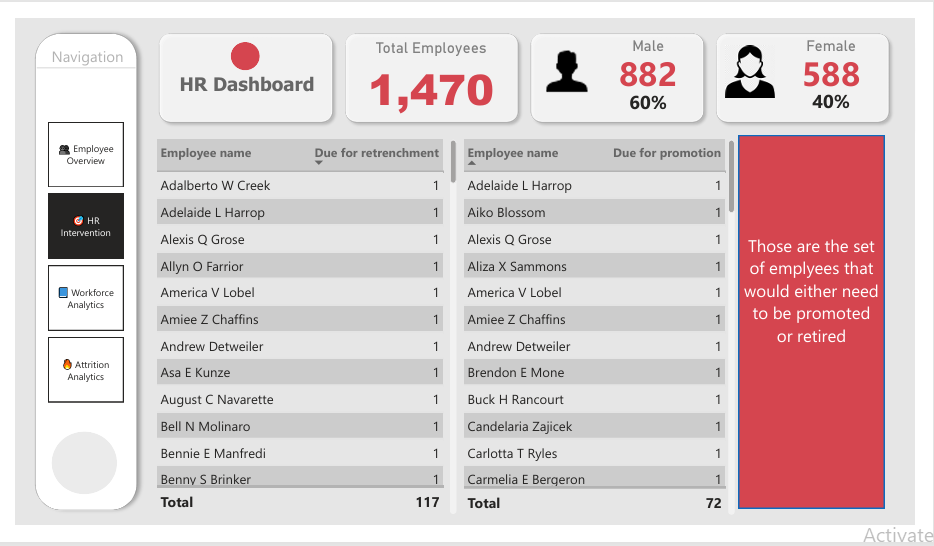

The dashboard page shown, as its layout file describes it:
{"tool":"powerbi","page":{"name":"🎯 HR Intervention ","canvas":[1280,720],"ordinal":1},"visuals":[{"type":"shape","box":[1028.6,166.2,207,530.1],"z":0},{"type":"shape","box":[16.5,9.6,166.5,699.2],"z":1000},{"type":"shape","box":[195.4,12.4,264.3,143.1],"z":2000},{"type":"shape","box":[459.7,12.4,264.3,143.1],"z":3000},{"type":"shape","box":[724,12.4,264.3,143.1],"z":4000},{"type":"shape","box":[988.2,12.4,264.3,143.1],"z":5000},{"type":"textbox","box":[209.7,71.2,238.7,51.4],"z":6000},{"type":"textbox","box":[36.9,33,130.5,51.4],"z":7000},{"type":"shape","box":[305.9,33,40.9,39.6],"z":8000},{"type":"card","title":"Total Employees","fields":{"Values":["All Measures.Total Emp"]},"box":[468,27.5,246.4,112.9],"z":9000},{"type":"card","title":"Male","fields":{"Values":["All Measures.Male"]},"box":[814.8,26.2,170.7,75.7],"z":10000},{"type":"card","fields":{"Values":["All Measures.Male %"]},"box":[834.1,90.8,132.1,55.1],"z":11000},{"type":"card","title":"Female","fields":{"Values":["All Measures.Female"]},"box":[1068.7,26.2,183.1,75.7],"z":12000},{"type":"card","fields":{"Values":["All Measures.Female %"]},"box":[1083.9,90.8,152.8,53.7],"z":13000},{"type":"image","box":[736.3,26.2,95,90.8],"z":14000},{"type":"image","box":[1004.7,33,79.8,84],"z":15000},{"type":"tableEx","fields":{"Values":["HR employee data.Emplyee name","All Measures.Due for retirment"]},"box":[195.4,166.5,436.3,542.3],"z":16000},{"type":"tableEx","fields":{"Values":["HR employee data.Emplyee name","All Measures.Due for promotion"]},"box":[631.7,166.5,396.4,543.7],"z":17000},{"type":"textbox","box":[1029.3,299.6,206.6,217.4],"z":18000},{"type":"shape","box":[51.4,586.8,92.3,89.7],"z":19000},{"type":"shape","box":[30.2,61.6,140.1,15.7],"z":20000},{"type":"pageNavigator","box":[45.7,147.1,107.1,400],"z":21000}]}

Visuals, with their boxes on the page's 1280x720 design canvas (x1, y1, x2, y2). These are canvas units, not pixel positions in the 934x546 screenshot, which may show the page scaled, cropped or inside an application window:
shape: x1=1029 y1=166 x2=1236 y2=696
shape: x1=16 y1=10 x2=183 y2=709
shape: x1=195 y1=12 x2=460 y2=156
shape: x1=460 y1=12 x2=724 y2=156
shape: x1=724 y1=12 x2=988 y2=156
shape: x1=988 y1=12 x2=1252 y2=156
textbox: x1=210 y1=71 x2=448 y2=123
textbox: x1=37 y1=33 x2=167 y2=84
shape: x1=306 y1=33 x2=347 y2=73
"Total Employees" card: x1=468 y1=28 x2=714 y2=140
"Male" card: x1=815 y1=26 x2=986 y2=102
card - All Measures.Male %: x1=834 y1=91 x2=966 y2=146
"Female" card: x1=1069 y1=26 x2=1252 y2=102
card - All Measures.Female %: x1=1084 y1=91 x2=1237 y2=144
image: x1=736 y1=26 x2=831 y2=117
image: x1=1005 y1=33 x2=1084 y2=117
tableEx - HR employee data.Emplyee name x All Measures.Due for retirment: x1=195 y1=166 x2=632 y2=709
tableEx - HR employee data.Emplyee name x All Measures.Due for promotion: x1=632 y1=166 x2=1028 y2=710
textbox: x1=1029 y1=300 x2=1236 y2=517
shape: x1=51 y1=587 x2=144 y2=676
shape: x1=30 y1=62 x2=170 y2=77
pageNavigator: x1=46 y1=147 x2=153 y2=547
